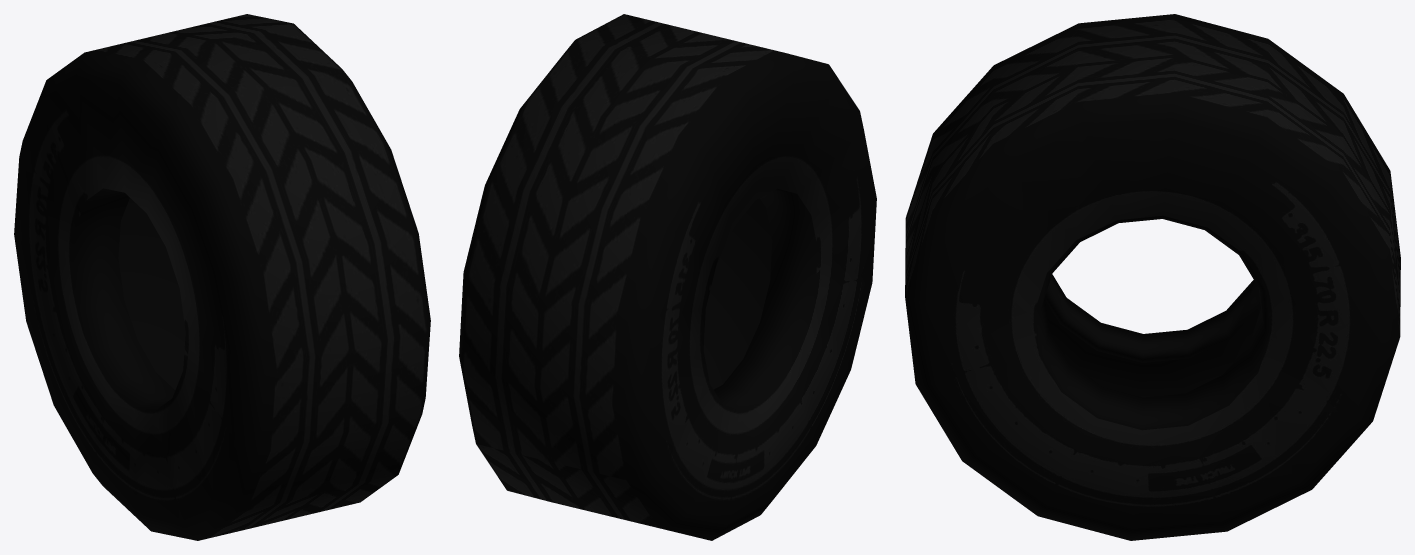
File: Tire.glb
The picture shows the model from 3 angles, left to right: view 1: azimuth 30°, elevation 25°; view 2: azimuth 150°, elevation 25°; view 3: azimuth 270°, elevation 25°; orthographic projection.
Visible parts, largest first — view 1: tire; view 2: tire; view 3: tire.
Boxes of the visible parts, bbox=[...] form: tire: bbox=[14, 14, 430, 540]; tire: bbox=[459, 14, 876, 540]; tire: bbox=[905, 14, 1400, 540].
Bounding box in the file's own units: 3.13 × 7.08 × 7.08.
1 material, 1 textured.
